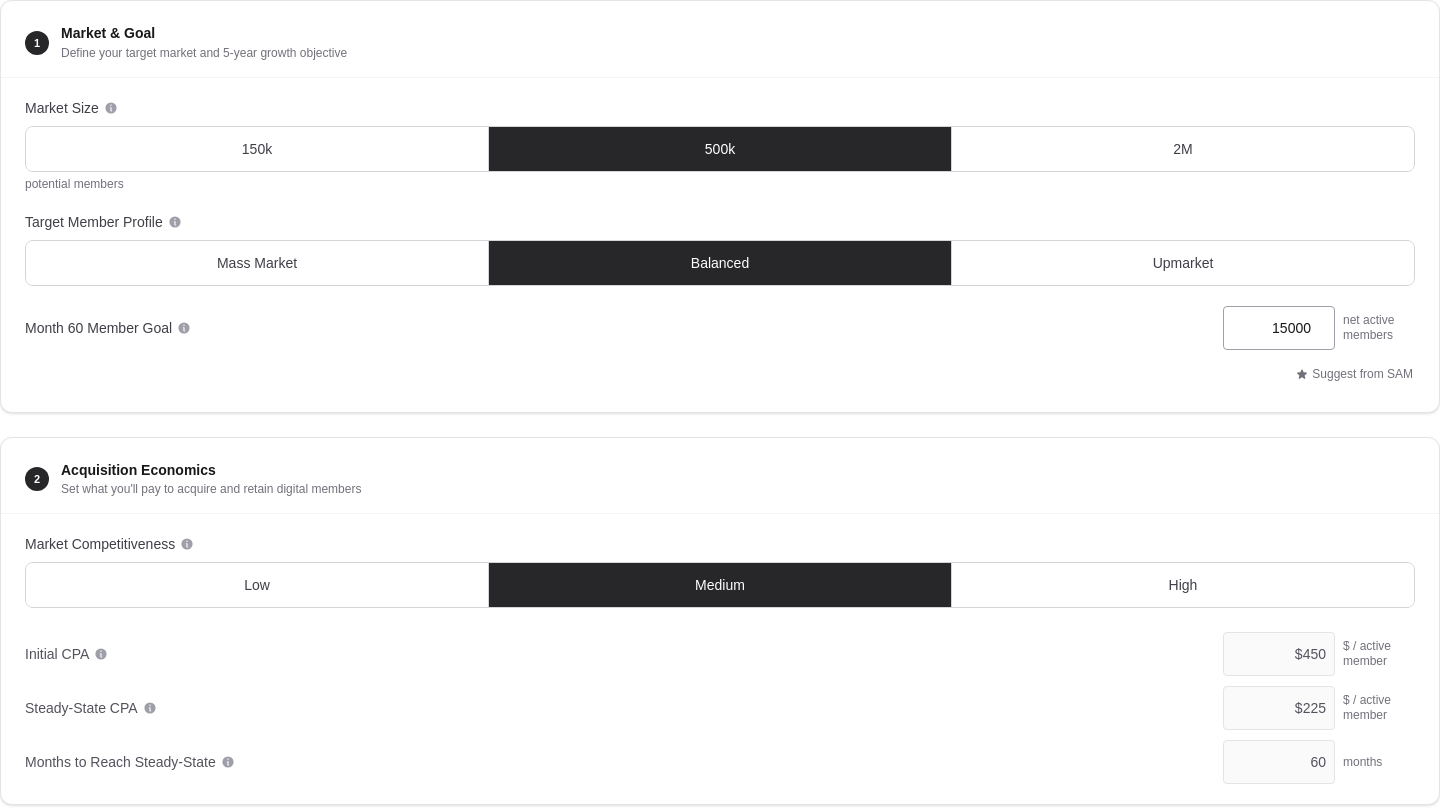
Test: ModelInputs › lever tooltips › Target Member Profile tooltip mentions attrition and SAM
The width and height of the screenshot is (1440, 810).
Hover over the button named "more information" next to "Target Member Profile" at (175, 222), box [167,214,183,230]
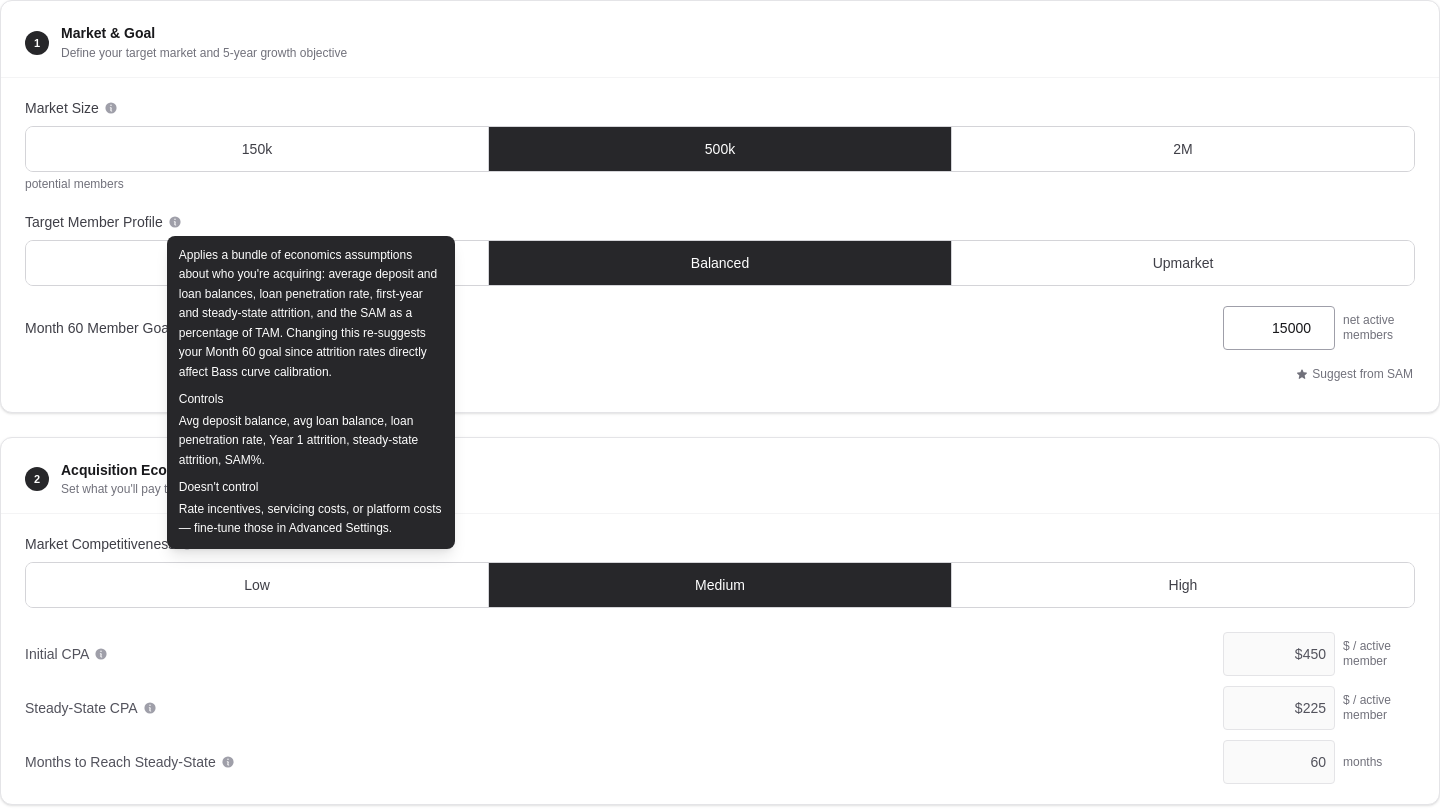
Expected: the tooltip shows "attrition", [179,248,437,378]
Expected: the tooltip shows "SAM", [179,248,437,378]
